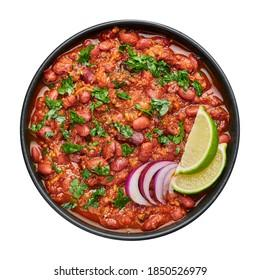rajma: (48, 38, 231, 236)
